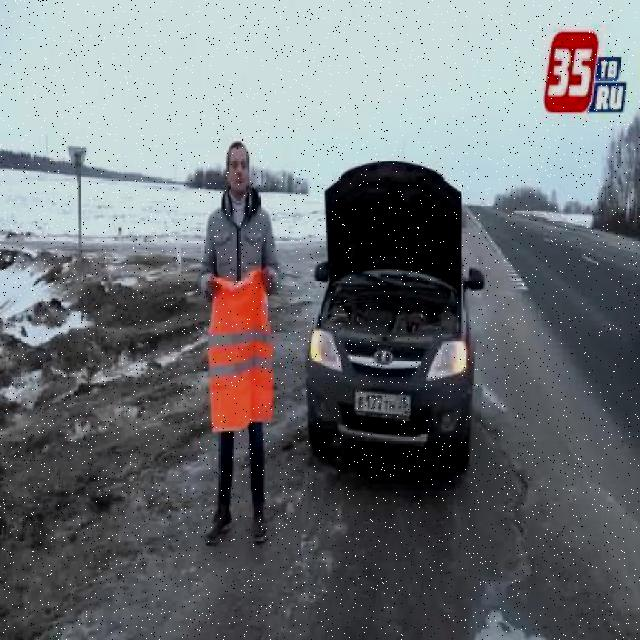Mask: (204, 269, 274, 437)
